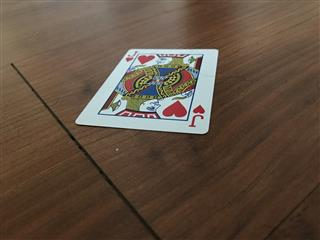JackOfHearts: (74, 47, 219, 134)
